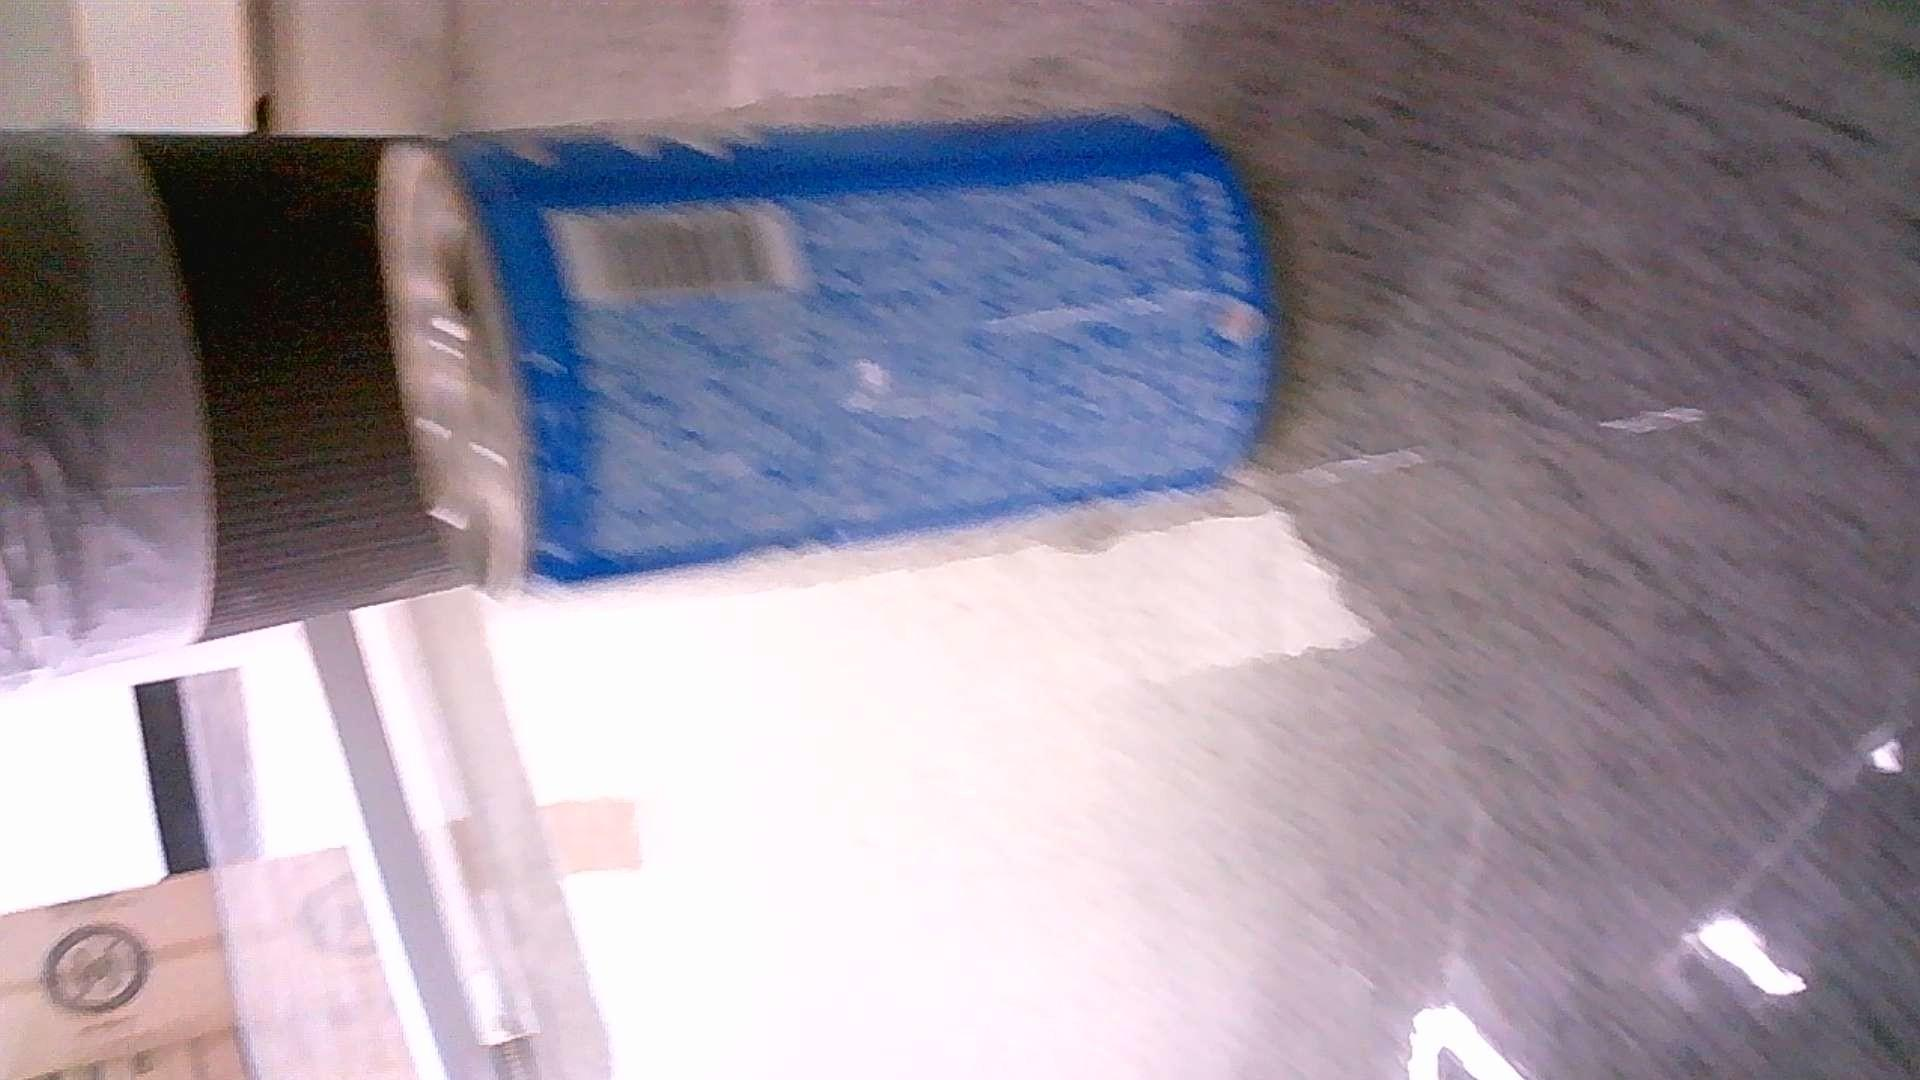letsbe: (377, 105, 1279, 604)
